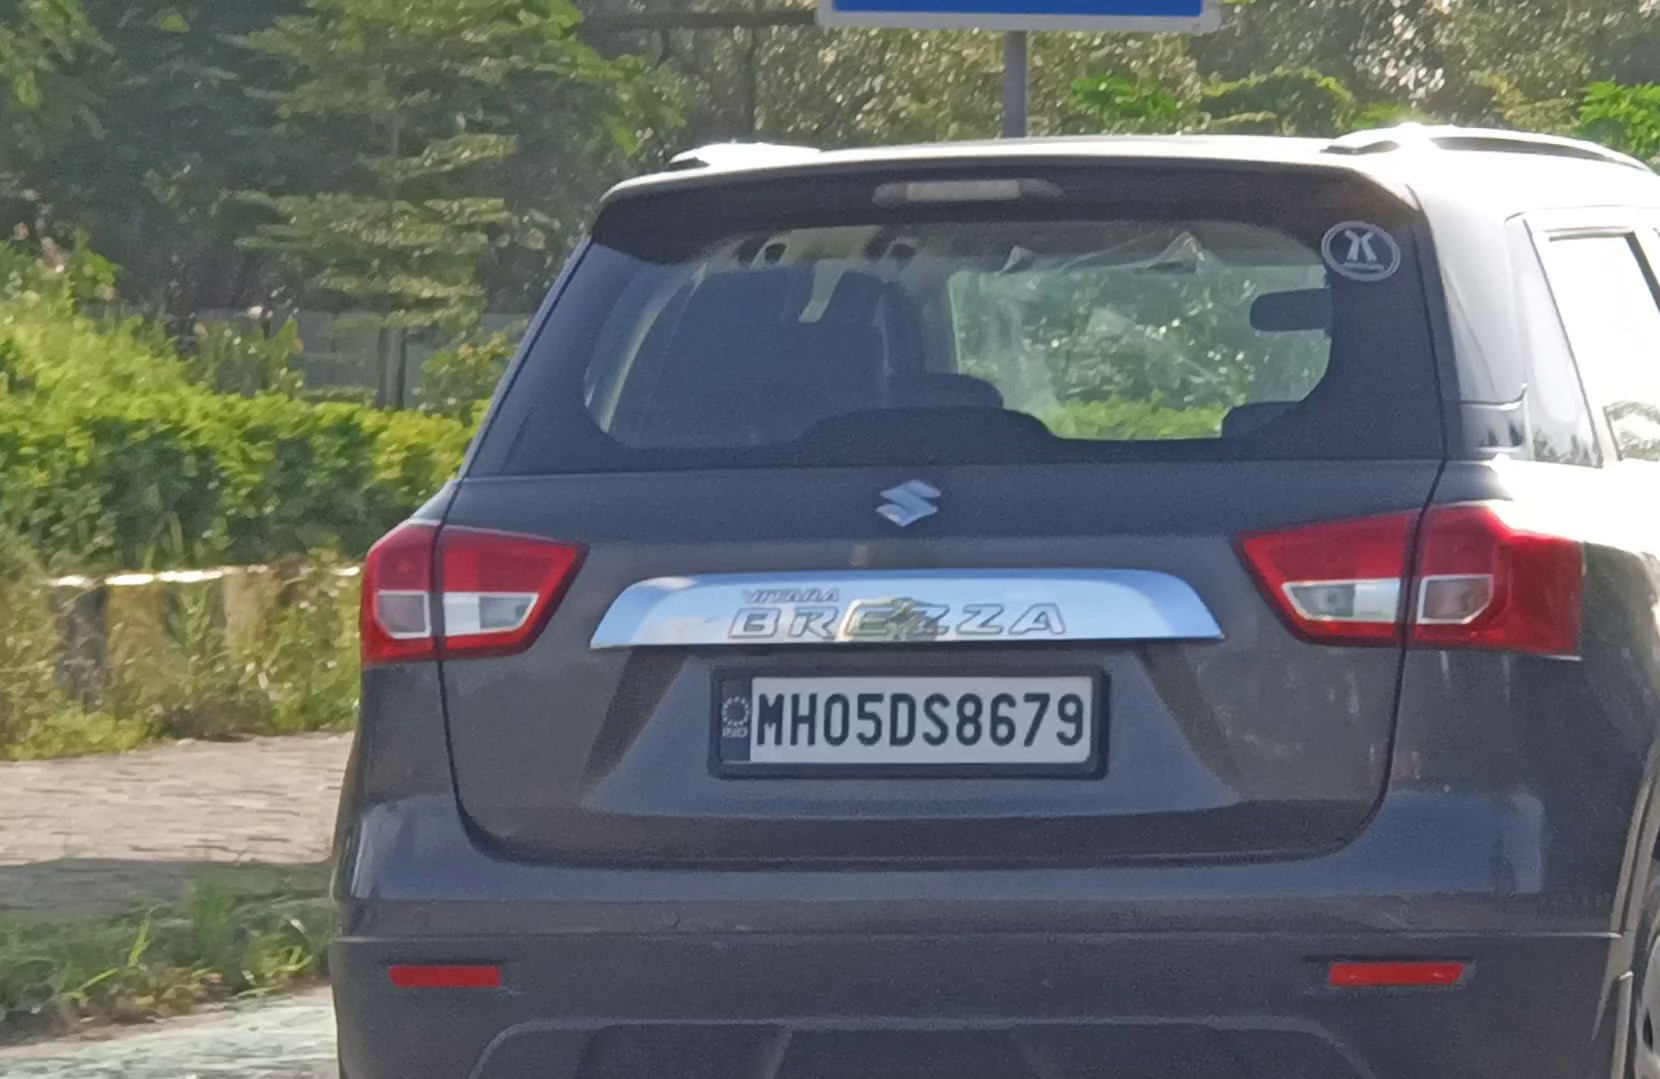MH05DS8679: (716, 672, 1101, 769)
